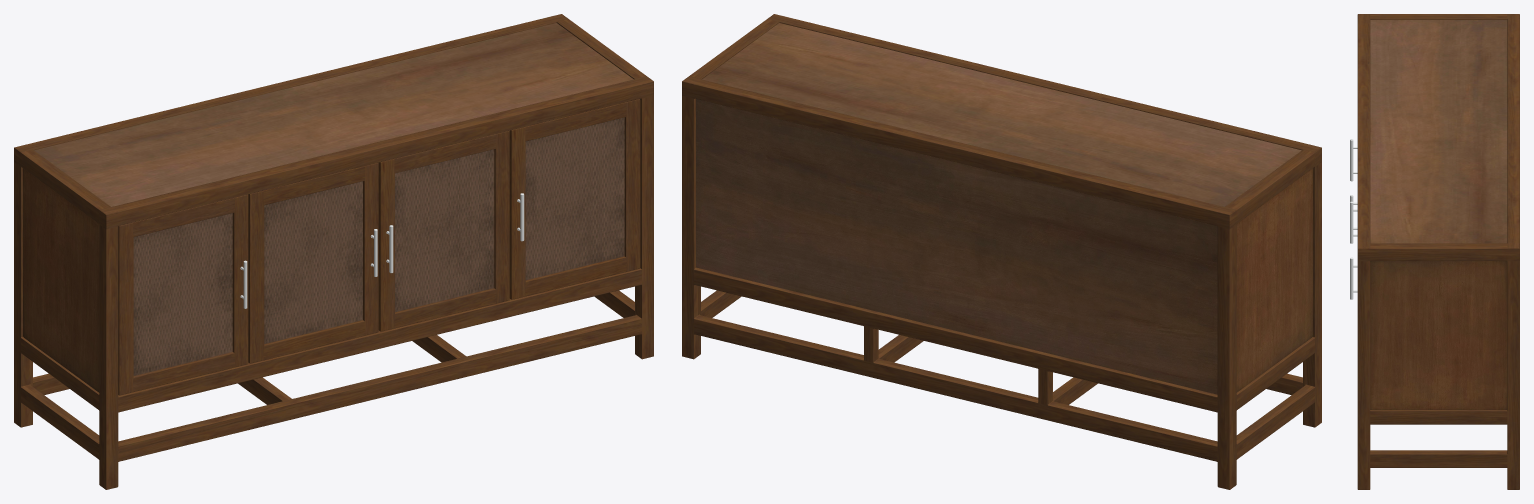
The model's file is cabinet_B07HSBD8DM.glb.
3 renders of one model, left to right at view 1: azimuth 30°, elevation 25°; view 2: azimuth 150°, elevation 25°; view 3: azimuth 270°, elevation 25°, orthographic. The views are drawn at different scales.
Visible parts, largest first — view 1: RootNode; view 2: RootNode; view 3: RootNode.
Part boxes in pixels (x1=…): RootNode: x1=14, y1=14, x2=653, y2=489; RootNode: x1=682, y1=14, x2=1321, y2=489; RootNode: x1=1350, y1=14, x2=1519, y2=489.
Size of the model in its own units: 1.71 by 0.8201 by 0.5223.
Materials: 1 (1 with a texture image).
